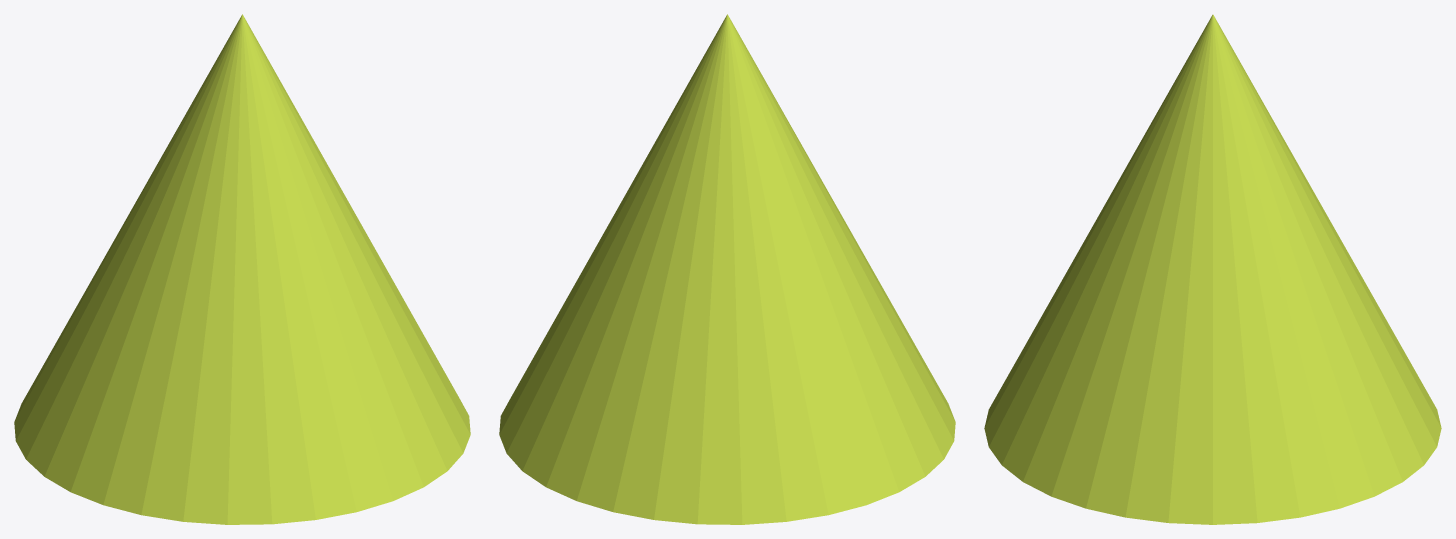
The model's file is davidCubeVarA3.gltf.
3 renders of one model, left to right at view 1: azimuth 30°, elevation 25°; view 2: azimuth 150°, elevation 25°; view 3: azimuth 270°, elevation 25°, orthographic.
Visible parts, largest first — view 1: davidCubeVarA3; view 2: davidCubeVarA3; view 3: davidCubeVarA3.
Part boxes in pixels (bbox=[...]): davidCubeVarA3: bbox=[14, 14, 470, 524]; davidCubeVarA3: bbox=[499, 14, 955, 524]; davidCubeVarA3: bbox=[984, 14, 1441, 524].
Size of the model in its own units: 0.7314 by 0.7314 by 0.7314.
